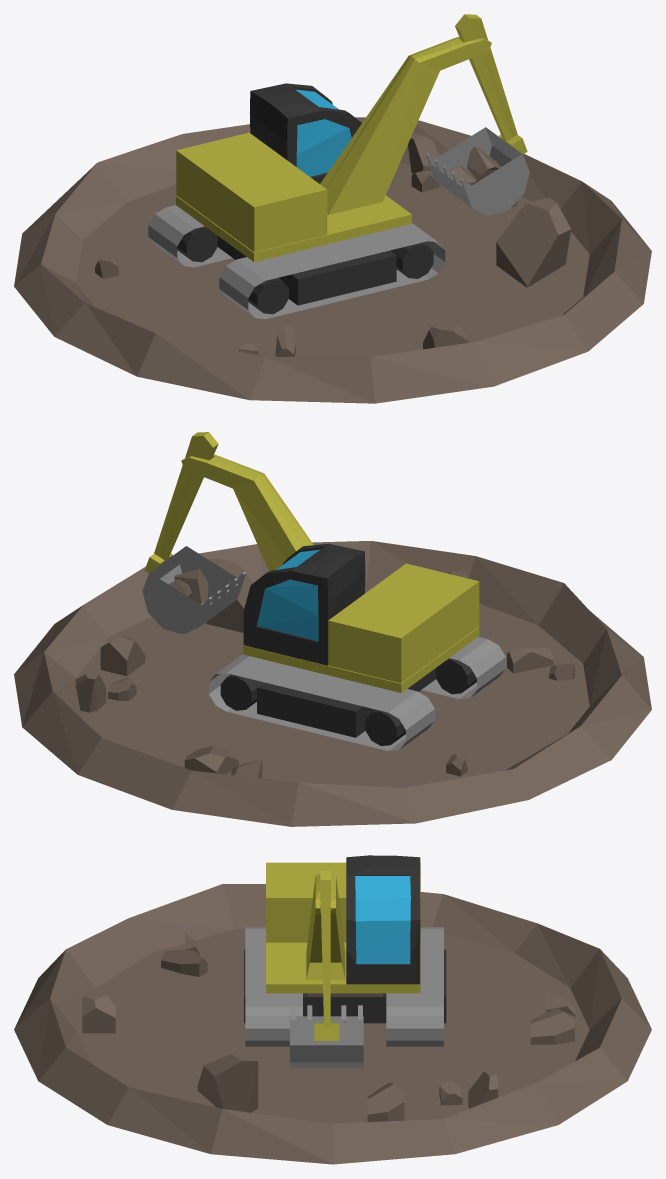
The picture shows the model from 3 angles, top to bottom: view 1: azimuth 30°, elevation 25°; view 2: azimuth 150°, elevation 25°; view 3: azimuth 270°, elevation 25°; orthographic projection.
Visible parts, largest first — view 1: Cylinder.007, Cube.003, Cube.006, Cylinder.005, Cube.025, Cube.004, Cube.002, Cube, Cylinder.006, Cube.005, Cube.007, Cylinder.002 (+8 smaller); view 2: Cylinder.007, Cube.003, Cube.004, Cylinder.002, Cube.006, Cube, Cube.005, Cylinder.006, Cube.007, Cube.002, Cylinder.005, Cylinder.008 (+9 smaller); view 3: Cylinder.007, Cube.004, Cube.005, Cylinder.002, Cube.003, Cylinder.005, Cube.002, Cube.025, Cylinder.006, Cube.006, Cube, Cube.007 (+6 smaller).
Part boxes in pixels (box(x1,y1,x2,y2)): Cylinder.007: box(14, 117, 651, 403); Cube.003: box(176, 132, 327, 252); Cube.006: box(320, 36, 491, 214); Cylinder.005: box(219, 223, 445, 319); Cube.025: box(496, 197, 571, 287); Cube.004: box(250, 83, 361, 183); Cube.002: box(176, 195, 411, 261); Cube: box(217, 236, 396, 305); Cylinder.006: box(428, 127, 529, 215); Cube.005: box(295, 89, 351, 176); Cube.007: box(455, 14, 517, 145); Cylinder.002: box(148, 205, 232, 267); Cylinder.007: box(14, 541, 651, 826); Cube.003: box(328, 563, 479, 683); Cube.004: box(243, 543, 365, 665); Cylinder.002: box(209, 654, 434, 750); Cube.006: box(181, 454, 313, 571); Cube: box(257, 668, 435, 737); Cube.005: box(257, 549, 319, 640); Cylinder.006: box(142, 546, 243, 634); Cube.007: box(154, 432, 218, 564); Cube.002: box(243, 627, 479, 692); Cylinder.005: box(421, 637, 505, 698); Cylinder.008: box(150, 547, 239, 606); Cylinder.007: box(14, 884, 651, 1164); Cube.004: box(346, 855, 420, 984); Cube.005: box(355, 876, 410, 964); Cylinder.002: box(386, 927, 443, 1046); Cube.003: box(266, 862, 420, 942); Cylinder.005: box(245, 927, 302, 1046); Cube.002: box(266, 942, 420, 993); Cube.025: box(197, 1049, 258, 1112); Cylinder.006: box(290, 1016, 363, 1067); Cube.006: box(306, 874, 345, 979); Cube: box(244, 949, 446, 1023); Cube.007: box(320, 871, 330, 1028).
Bounding box in the file's own units: 14.22 × 5.45 × 14.22.
